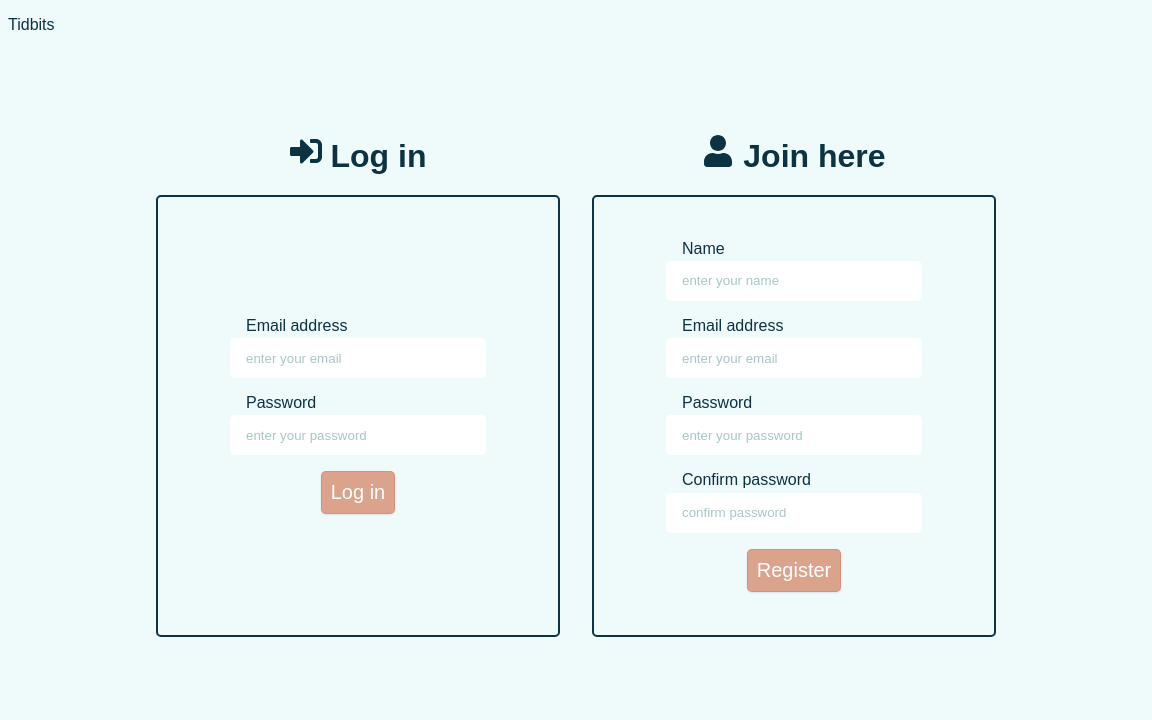
Test case: user can register › when successfully registered › users logs in
// the data comes from fixtures
Type "tidbit1" into the field with class "register-name".
click(794, 281); type("tidbit1")  # box [666,261,922,301]
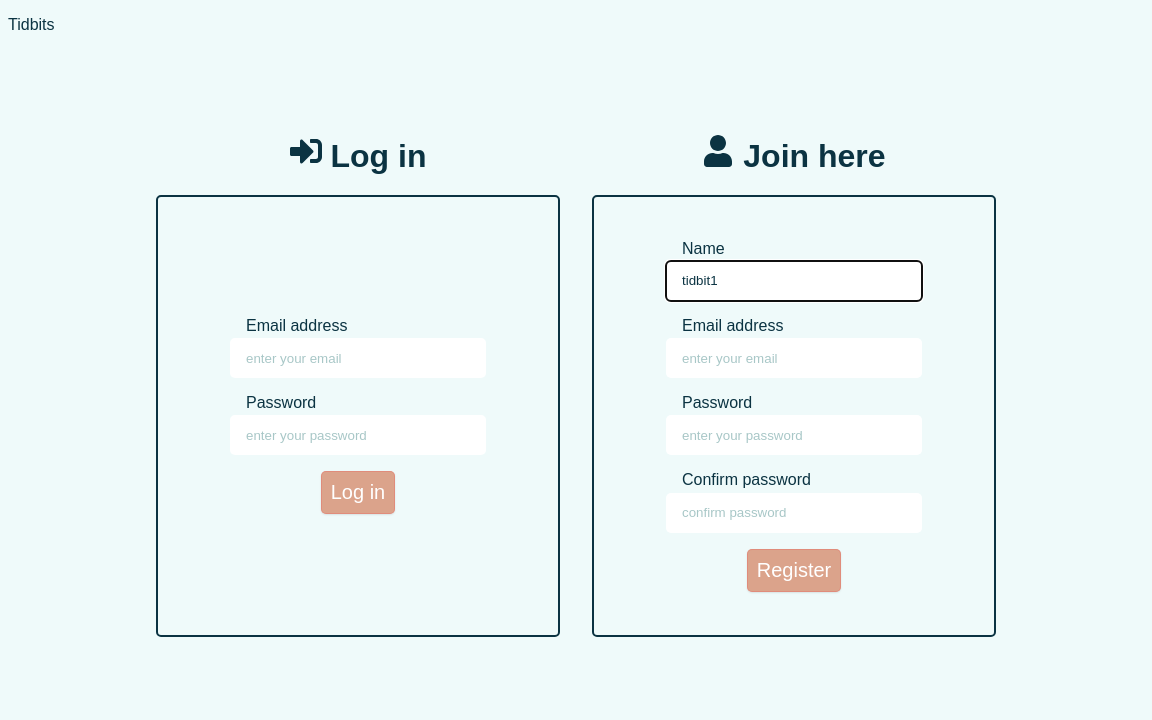
Type "tidbit1@gmail.com" into the field with class "register-email".
click(794, 358); type("tidbit1@gmail.com")  # box [666,338,922,378]
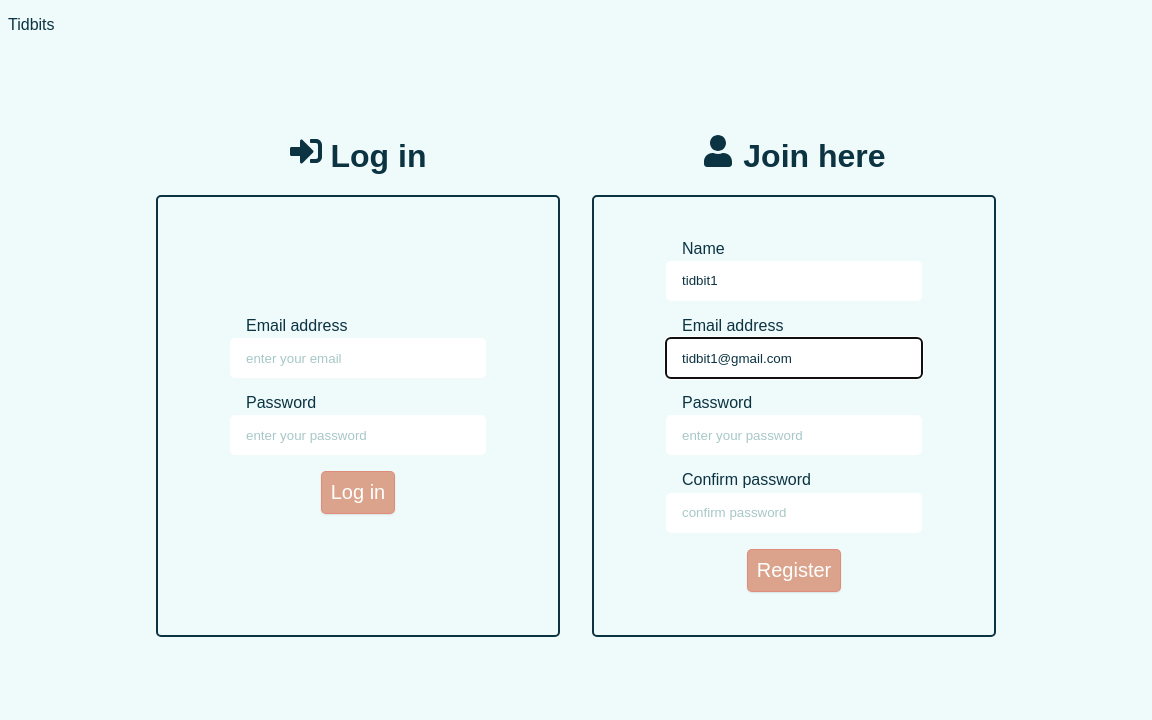
Type "123456" into the password field with class "register-password".
click(794, 435); type("123456")  # box [666,415,922,455]
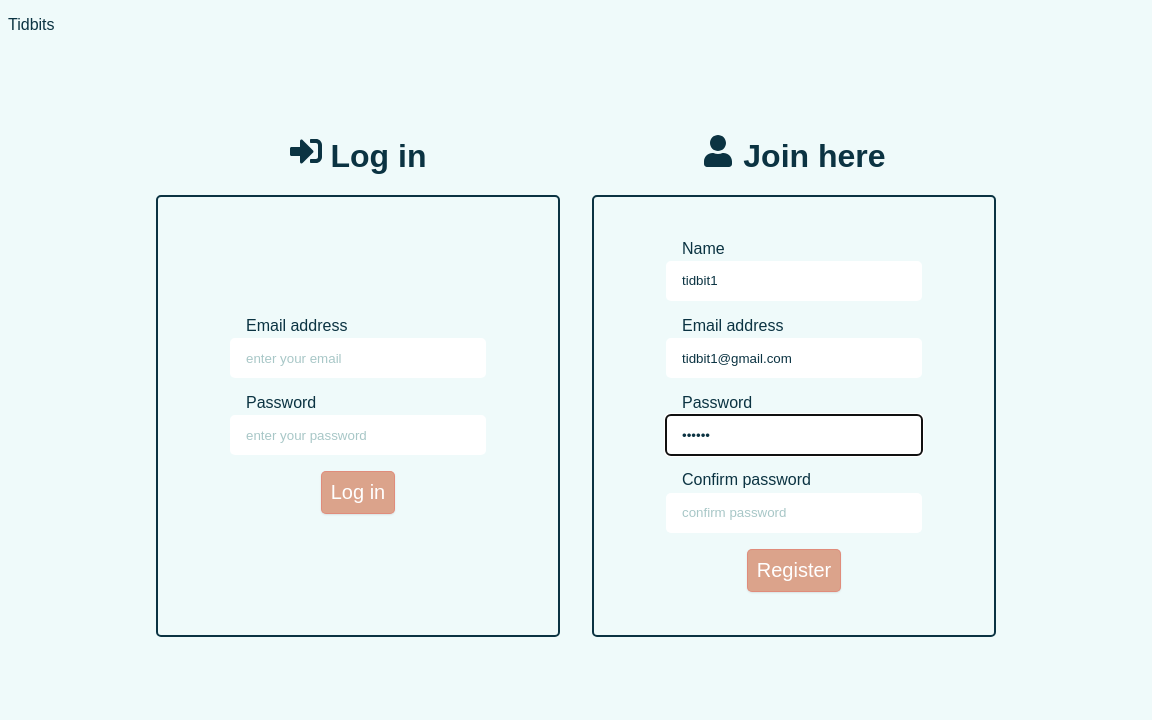
Type "123456" into the password field with class "register-password2".
click(794, 513); type("123456")  # box [666,493,922,533]
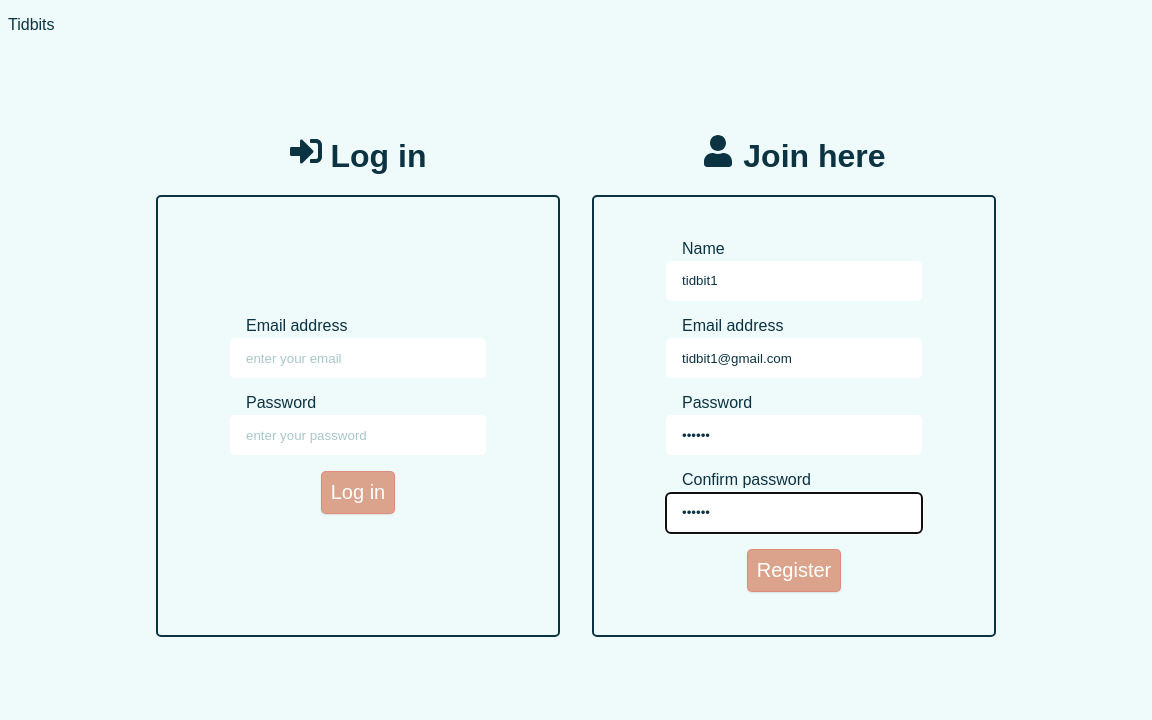
Click the button "Register".
click(795, 571)  # box [747,549,842,592]
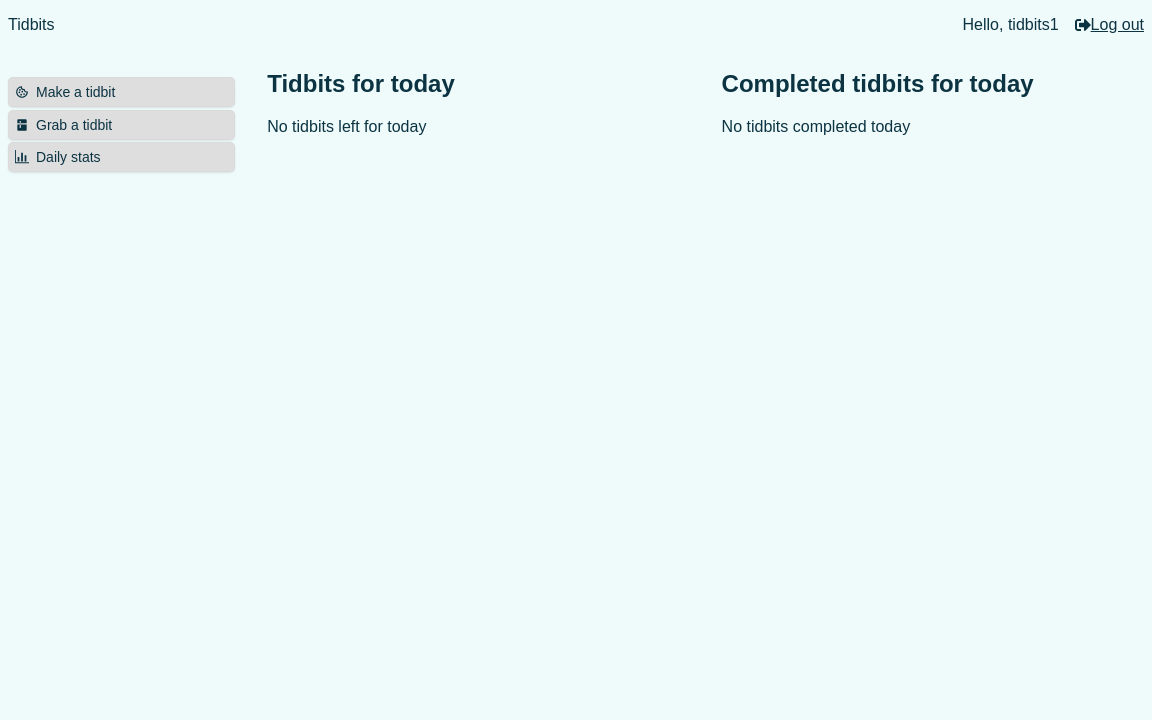
Expected: the text with class "header-greeting" reads "Hello, tidbits1", [963,16,1059,34]
